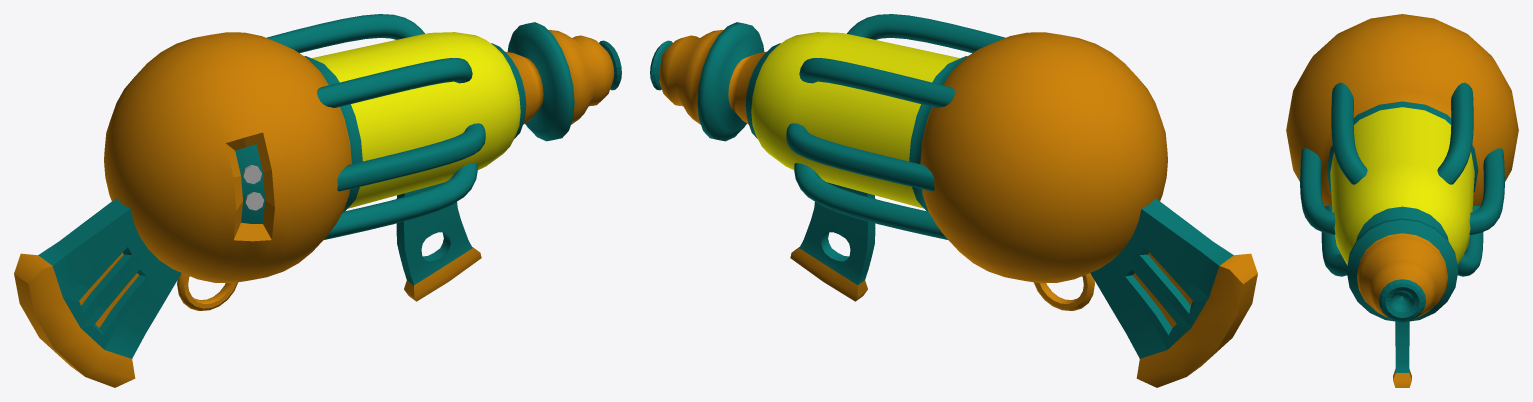
The model's file is Blaster1.fbx.
The picture shows the model from 3 angles, left to right: view 1: azimuth 30°, elevation 25°; view 2: azimuth 150°, elevation 25°; view 3: azimuth 270°, elevation 25°; orthographic projection. The views are drawn at different scales.
Parts seen in each view (by area): view 1: pSphere1, pCube1, pPlane1, pCube2, pPlane2, pPlane3, pPipe1; view 2: pSphere1, pCube1, pPlane1, pCube2, pPlane2, pPlane3, pPipe1; view 3: pSphere1, pPlane1, pPlane2, pPlane3, pCube2.
Boxes of the visible parts, bbox=[...] form: pSphere1: bbox=[104, 22, 621, 283]; pCube1: bbox=[14, 198, 181, 387]; pPlane1: bbox=[266, 14, 472, 107]; pCube2: bbox=[396, 182, 481, 301]; pPlane2: bbox=[337, 123, 485, 191]; pPlane3: bbox=[324, 163, 477, 239]; pPipe1: bbox=[177, 273, 237, 310]; pSphere1: bbox=[650, 22, 1167, 283]; pCube1: bbox=[1090, 198, 1257, 387]; pPlane1: bbox=[799, 14, 1005, 107]; pCube2: bbox=[790, 182, 875, 301]; pPlane2: bbox=[786, 123, 934, 191]; pPlane3: bbox=[794, 163, 947, 239]; pPipe1: bbox=[1034, 273, 1094, 310]; pSphere1: bbox=[1286, 14, 1518, 322]; pPlane1: bbox=[1331, 82, 1473, 184]; pPlane2: bbox=[1300, 148, 1504, 235]; pPlane3: bbox=[1321, 205, 1483, 276]; pCube2: bbox=[1393, 321, 1411, 387].
Bounding box in the file's own units: 5.41 × 2.71 × 2.
